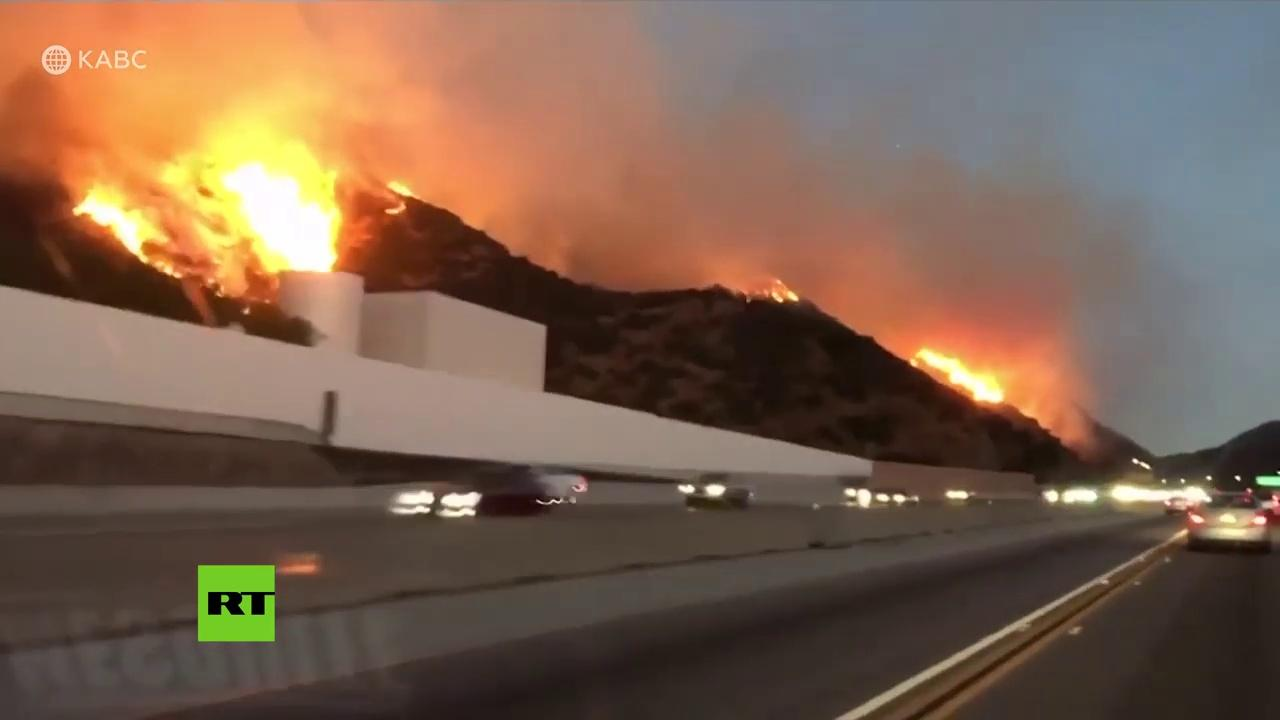Fire: (79, 145, 346, 285), (914, 350, 1007, 407), (384, 177, 413, 216), (772, 285, 802, 308)
